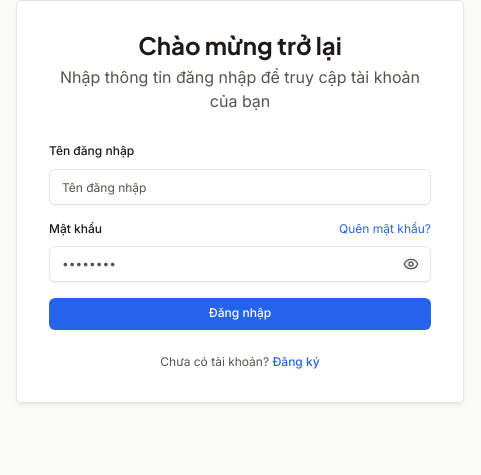
LoginForm — every other 5xx keeps the generic message › nginx 503 (HTML body, no code)
Step 1. Type "officer1" into the field labelled "Tên đăng nhập" → (240, 187), box [49, 169, 431, 205]
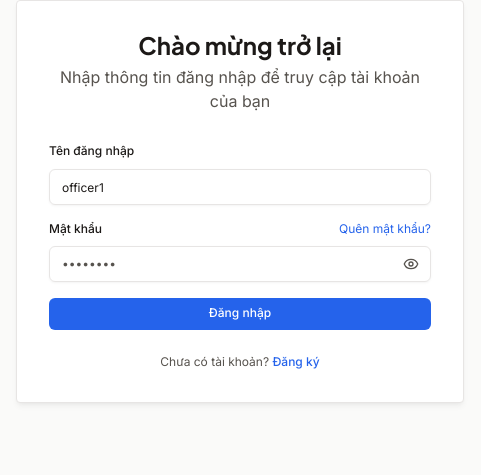
Step 2. Type "not-the-password" into the password field with placeholder "••••••••" → (240, 264), box [49, 246, 431, 282]
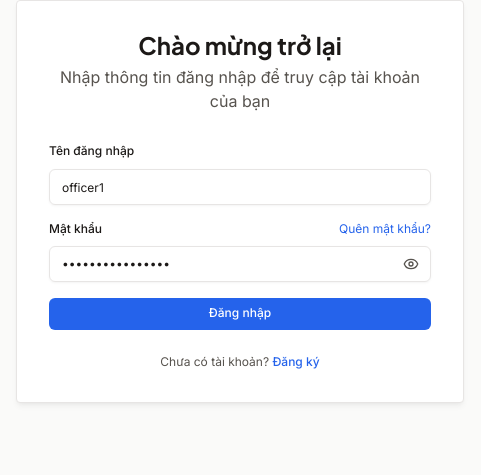
Step 3. Click the button "Đăng nhập" → click(240, 314), box [49, 298, 431, 330]
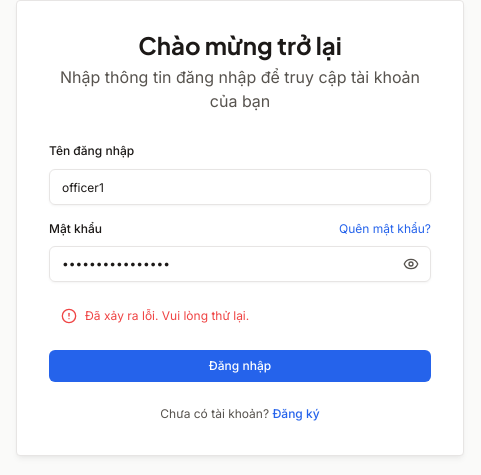
Expected: the message reads "Đã xảy ra lỗi. Vui lòng thử lại.", [85, 308, 249, 322]
